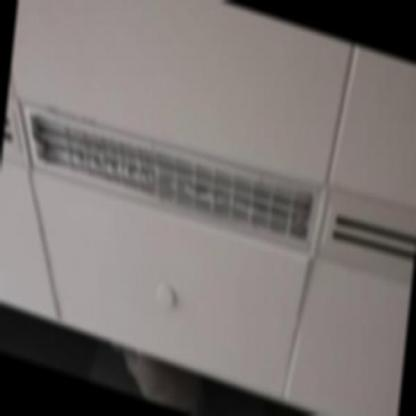light_off: (14, 64, 333, 279)
